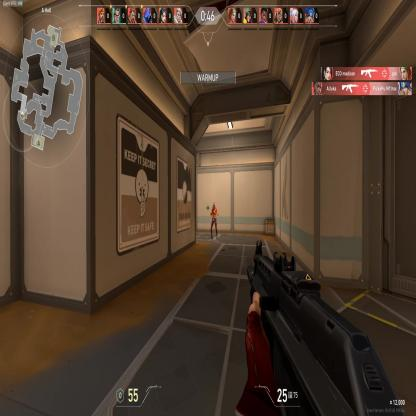enemy: (209, 200, 218, 242)
